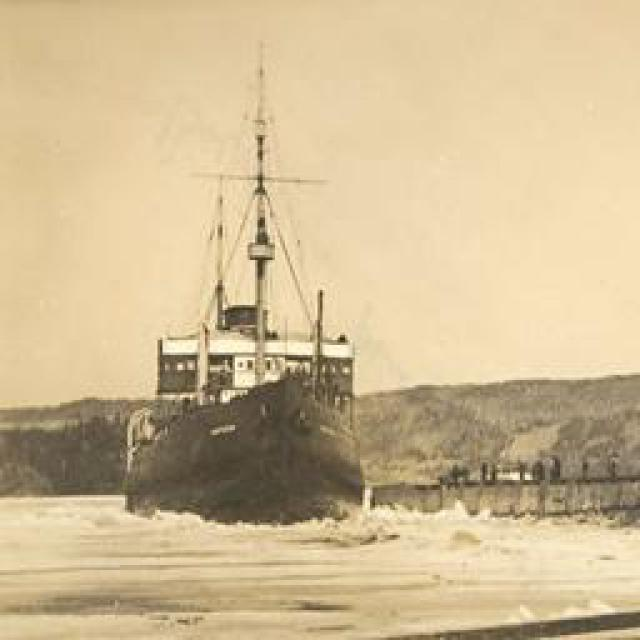Ship: (113, 36, 373, 536)
